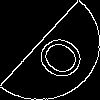O: (25, 25, 90, 85)
